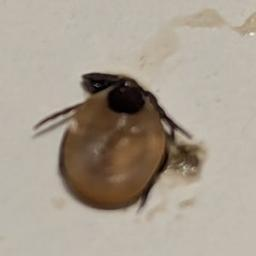Ixodes scapularis: (33, 72, 191, 213)
